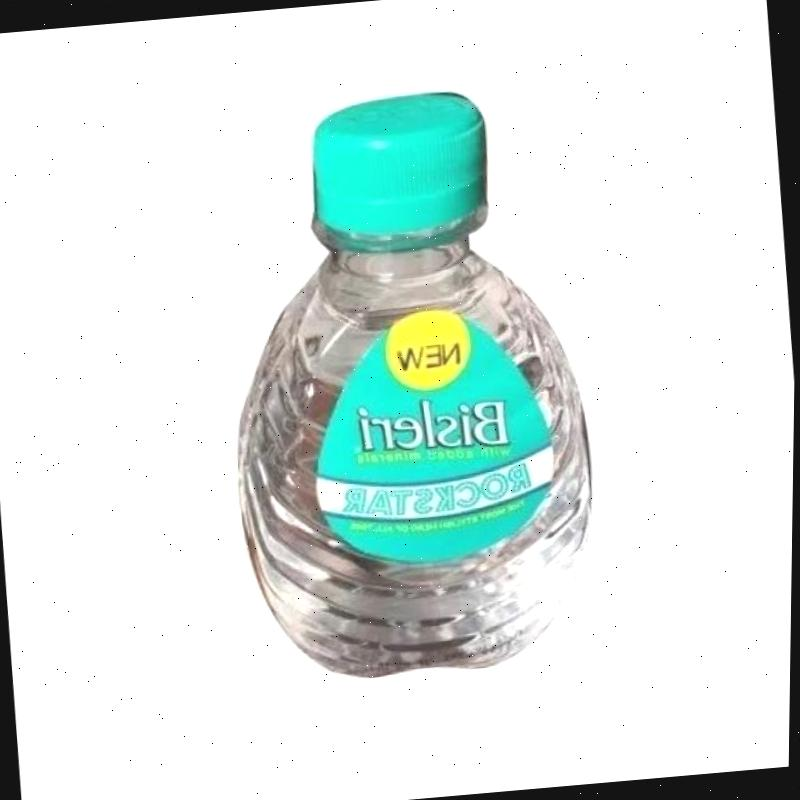botella: (200, 85, 618, 694)
